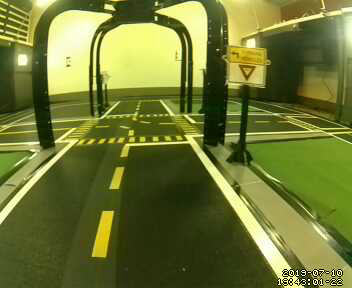Turn Yield: (225, 45, 267, 88)
